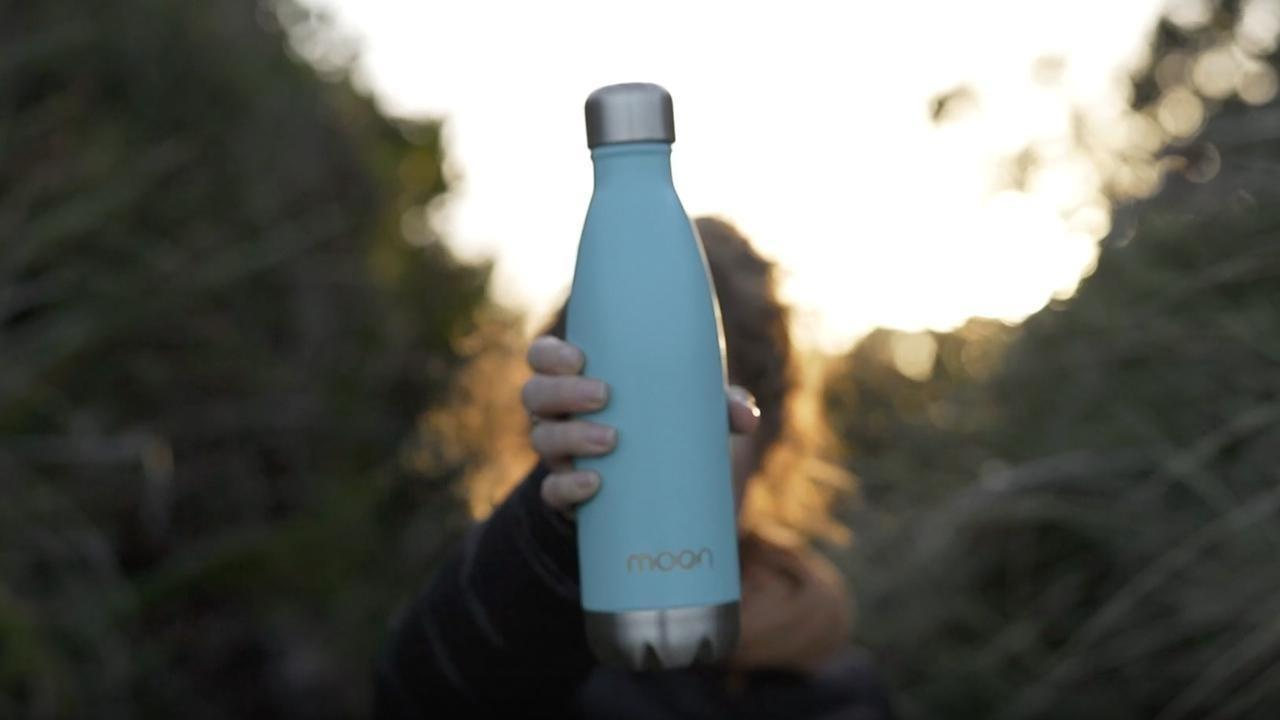gym bottle: (560, 77, 745, 675)
